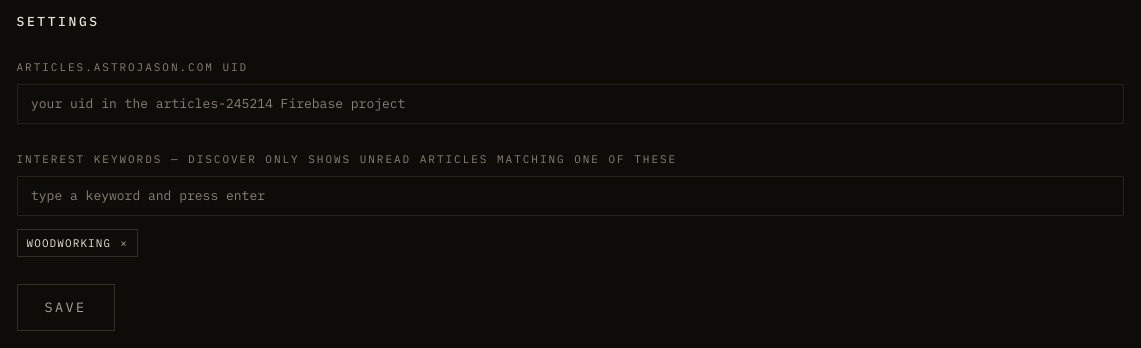
Test: Settings — editing › adds a new keyword to the list
The width and height of the screenshot is (1141, 348).
In the field named "add keyword": (570, 196) [16,176,1124,216], type "astronomy"
Then press Enter
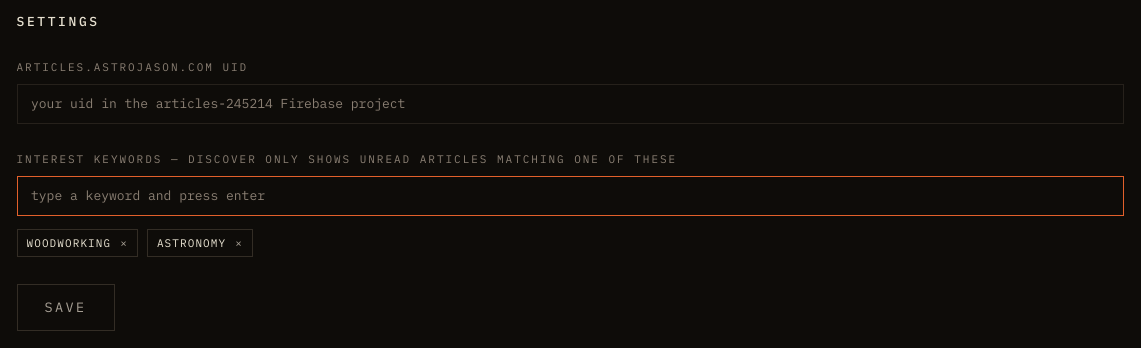
Result: the text "astronomy" is shown at [157,236,226,250]
